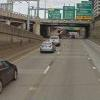Car: (35, 32, 61, 62)
